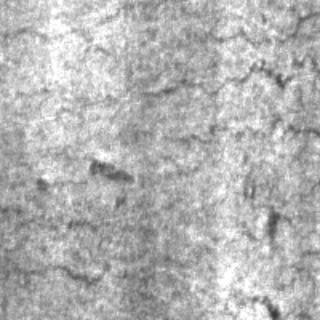crazing: (78, 4, 318, 112), (2, 150, 138, 298)
